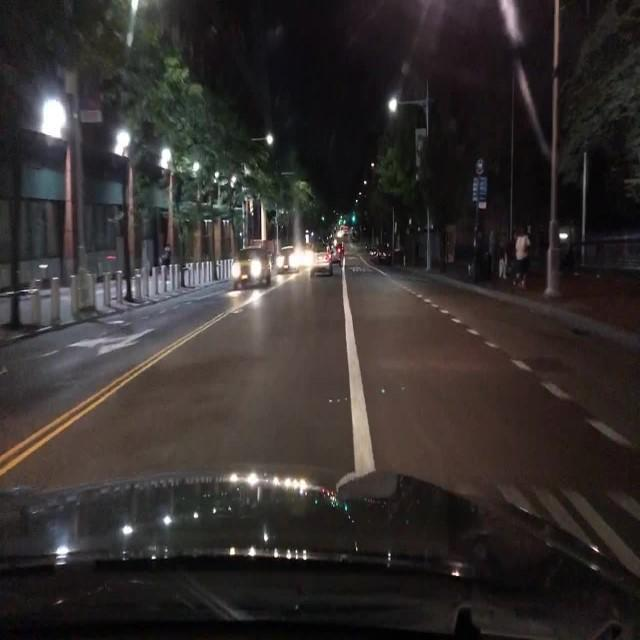normal: (226, 225, 347, 303)
